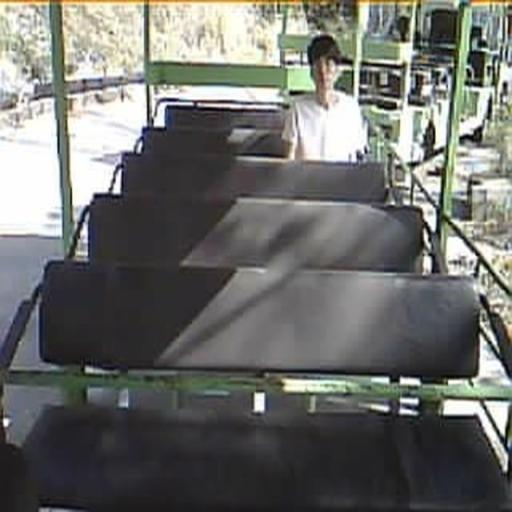persona: (280, 34, 371, 164)
